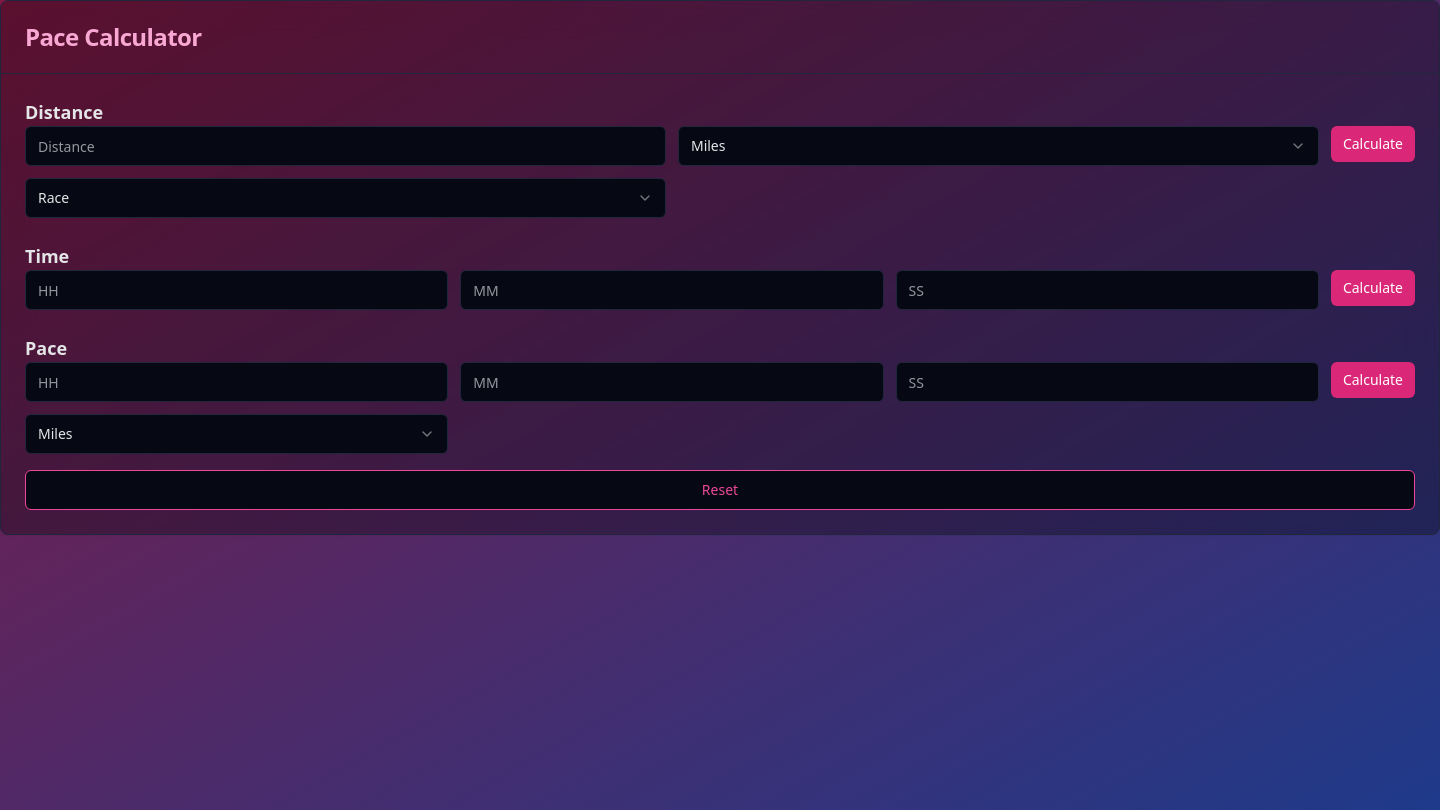
Test: Calculator › calculates pace
In the number field with placeholder "Distance": (345, 146) x1=25 y1=126 x2=666 y2=166, type "10"
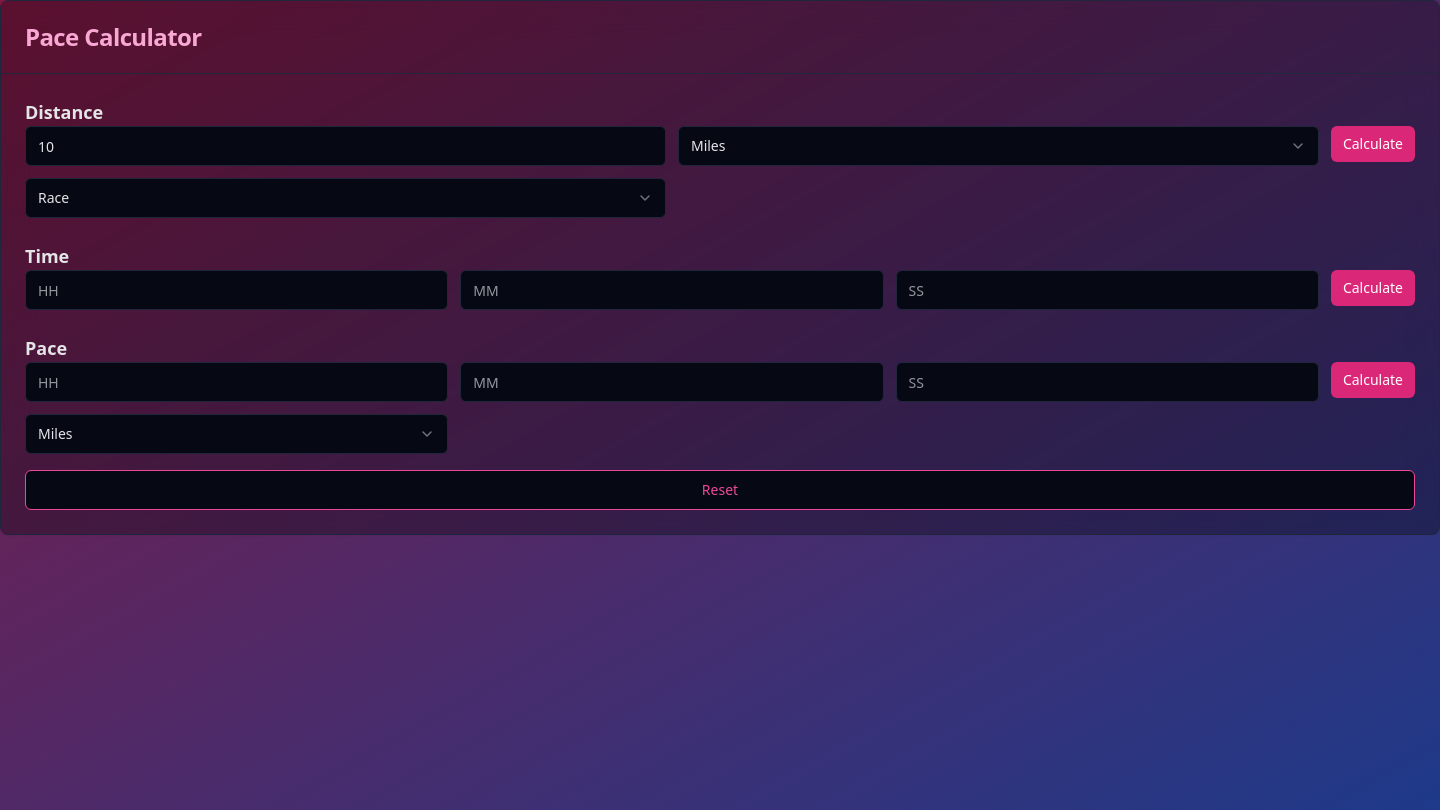
In the 1st number field with placeholder "MM": (672, 290) x1=460 y1=270 x2=884 y2=310, type "50"
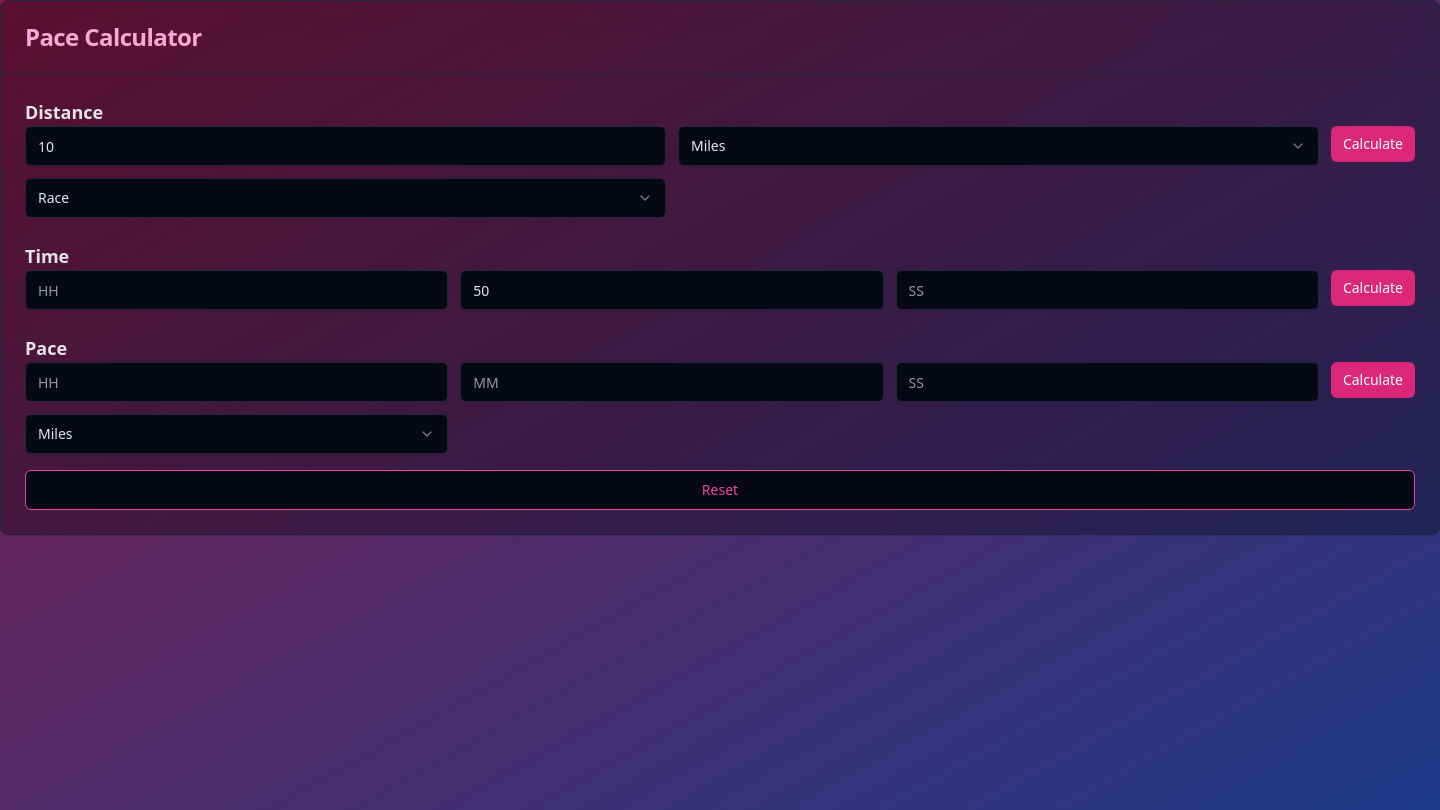
In the 1st number field with placeholder "SS": (1107, 290) x1=896 y1=270 x2=1319 y2=310, type "0"
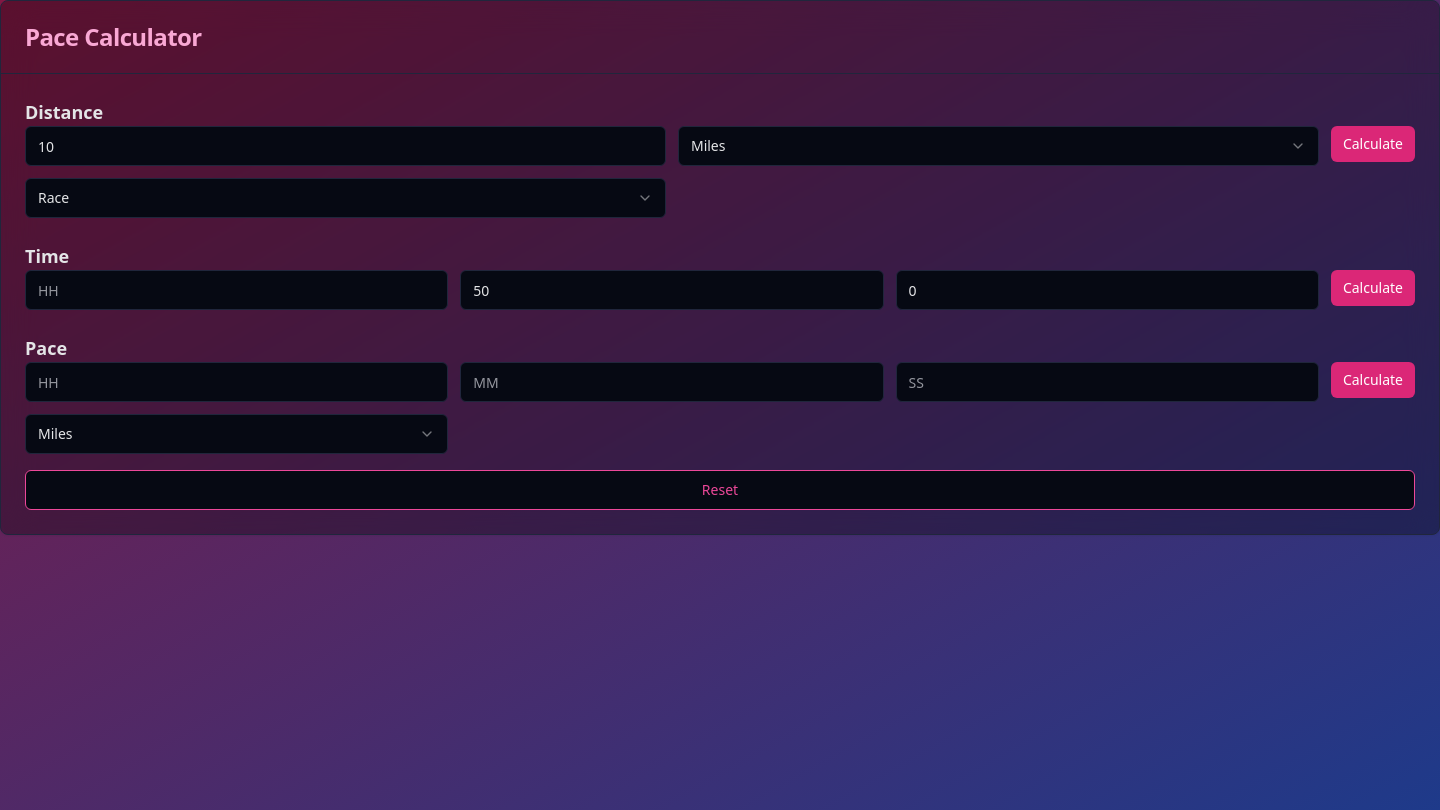
Click the 3rd button "Calculate": (1373, 380) x1=1331 y1=362 x2=1415 y2=398
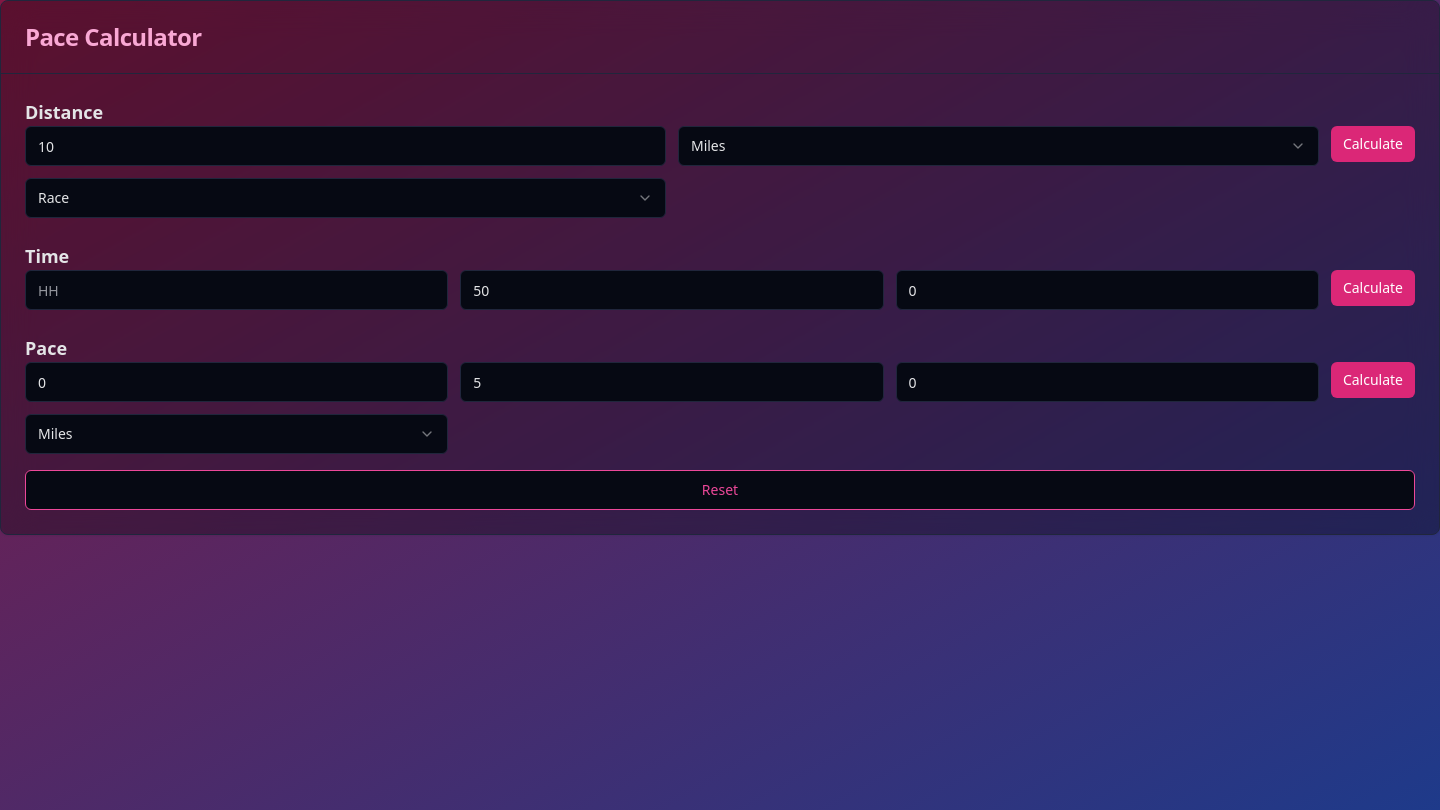
Now the 5th number field with placeholder "MM" holds "5", box x1=460 y1=362 x2=884 y2=402
Now the 6th number field with placeholder "SS" holds "0", box x1=896 y1=362 x2=1319 y2=402
